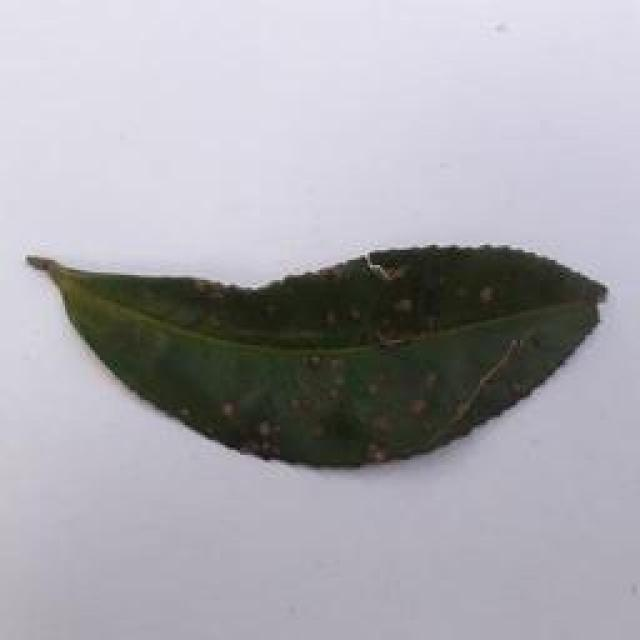Algal Leaf Spot: (30, 235, 606, 472)
